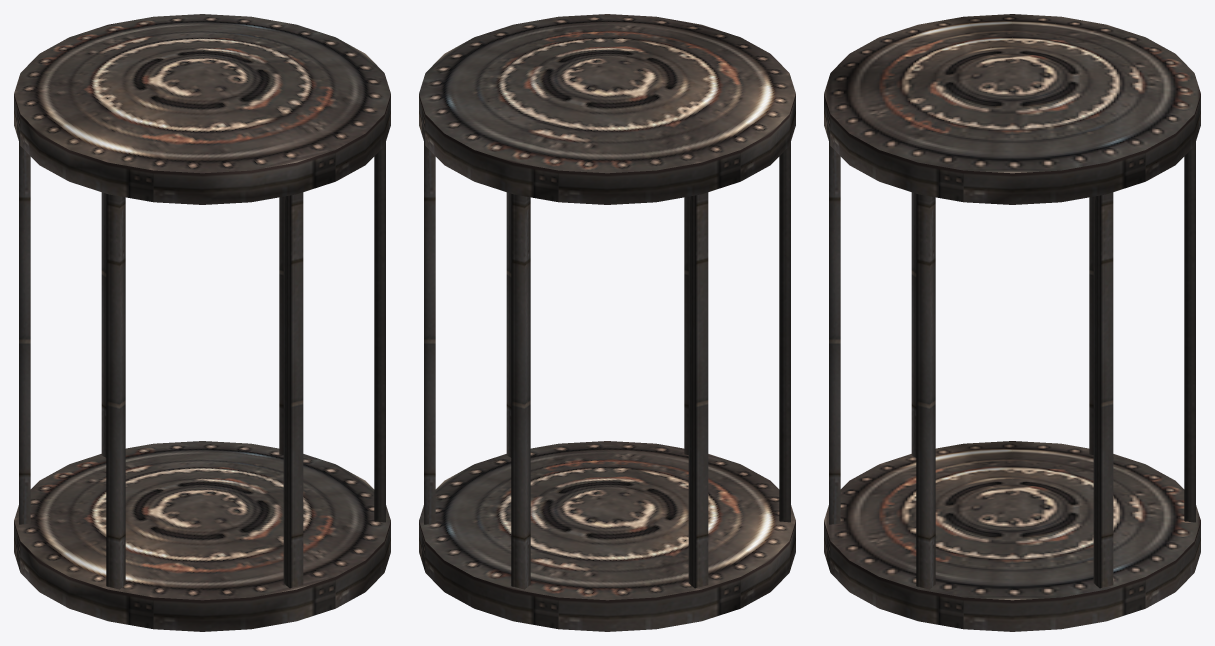
File: cistern_04.fbx
3 renders of one model, left to right at view 1: azimuth 30°, elevation 25°; view 2: azimuth 150°, elevation 25°; view 3: azimuth 270°, elevation 25°, orthographic.
Visible parts, largest first — view 1: cistern_04; view 2: cistern_04; view 3: cistern_04.
Boxes of the visible parts, <box> form: cistern_04: <box>14,14,390,631</box>; cistern_04: <box>419,14,795,631</box>; cistern_04: <box>824,14,1200,631</box>.
Bounding box in the file's own units: 55.36 × 80.5 × 55.36.
